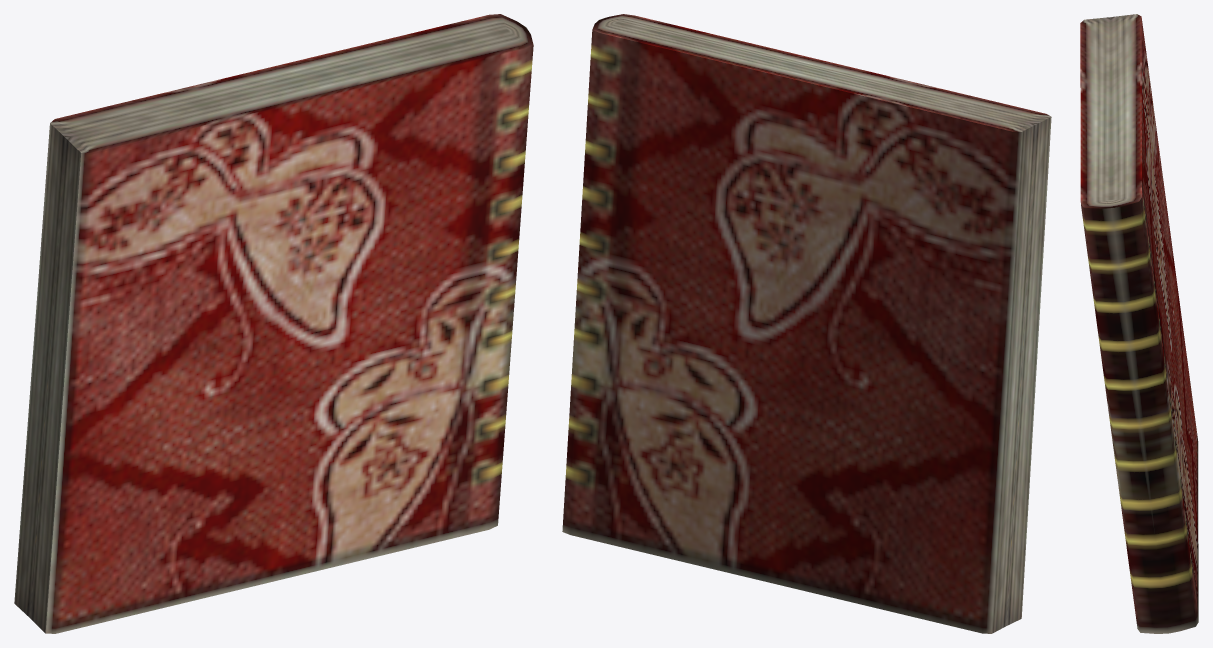
Rendered from zero-b-album2.ico.obj.
3 views of the same model, side by side, from view 1: azimuth 30°, elevation 25°; view 2: azimuth 150°, elevation 25°; view 3: azimuth 270°, elevation 25° (orthographic). The views are drawn at different scales.
Bounding box in the file's own units: 3.58 × 3.79 × 0.9373.
1 material, 1 textured.
